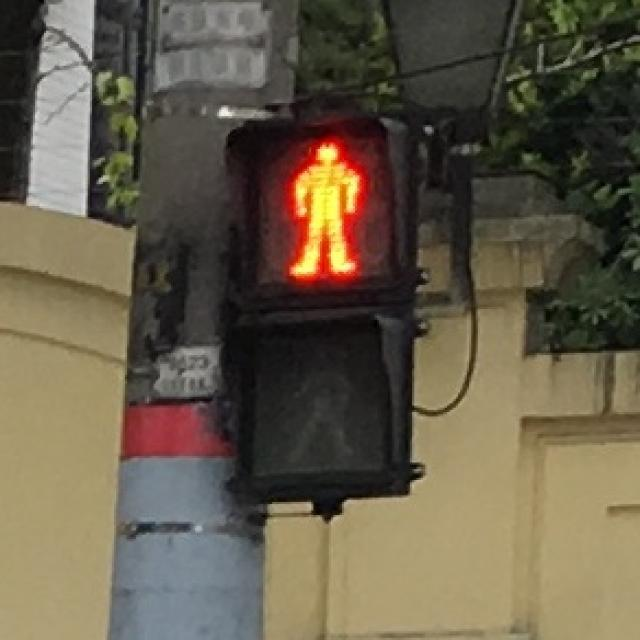red_light: (256, 129, 386, 287)
